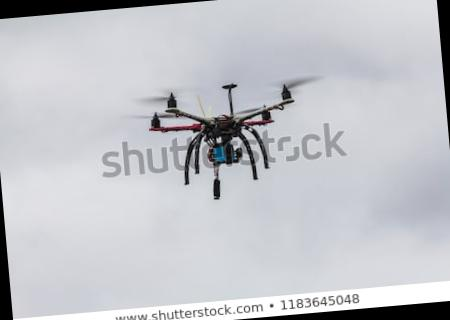drone: (123, 69, 318, 176)
